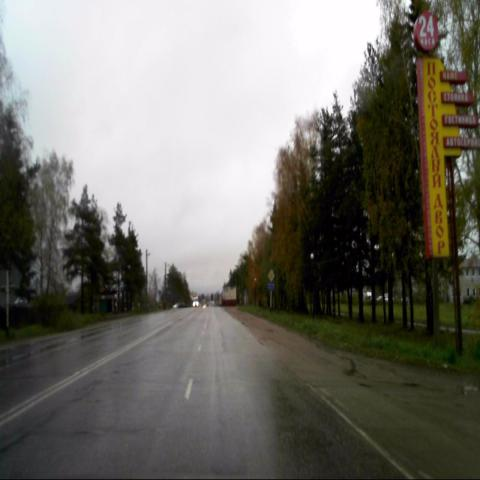2_1: (267, 267, 275, 282)
